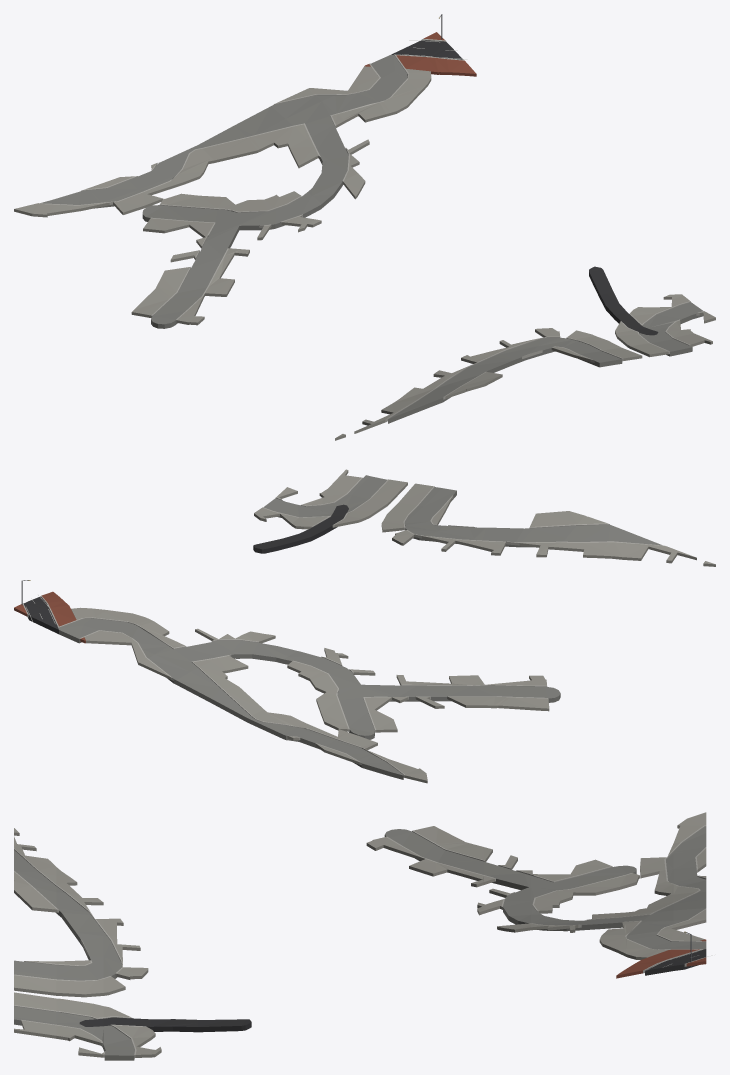
3 renders of one model, top to bottom at view 1: azimuth 30°, elevation 25°; view 2: azimuth 150°, elevation 25°; view 3: azimuth 270°, elevation 25°, orthographic. The views are drawn at different scales.
Size of the model in its own units: 117 by 30.11 by 148.
